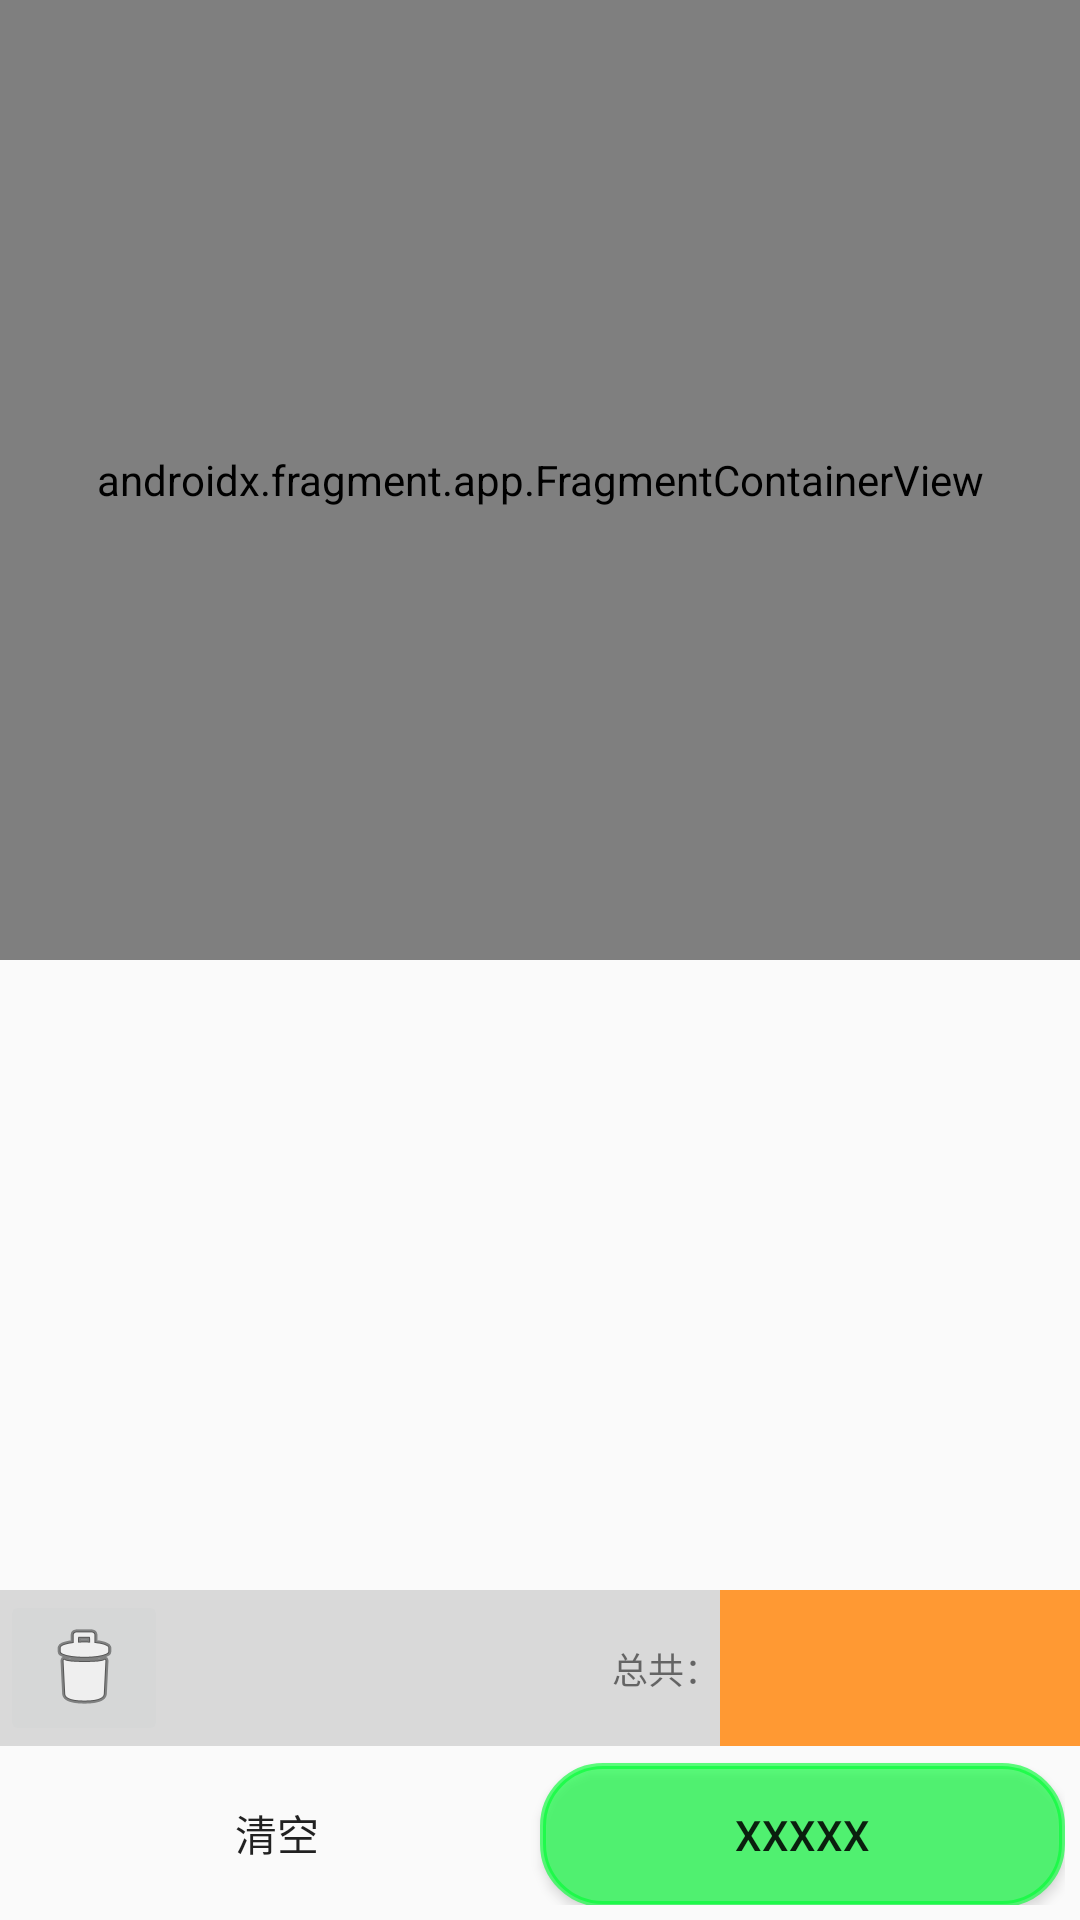

Icons on this 1080 × 1920 Android screen, each with the point to tap as (x,y):
删除键: (84,1666)
